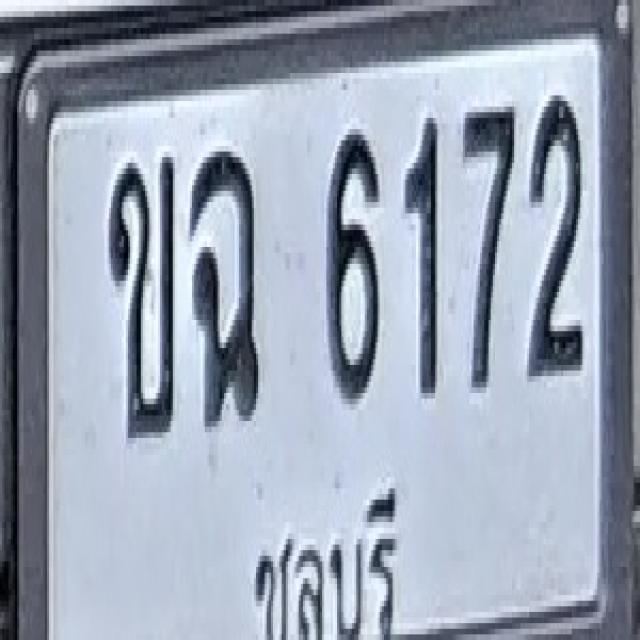-: (189, 146, 259, 427), (108, 151, 176, 438)
1: (403, 115, 438, 396)
2: (528, 93, 581, 373)
6: (328, 129, 378, 399)
7: (462, 104, 515, 390)
